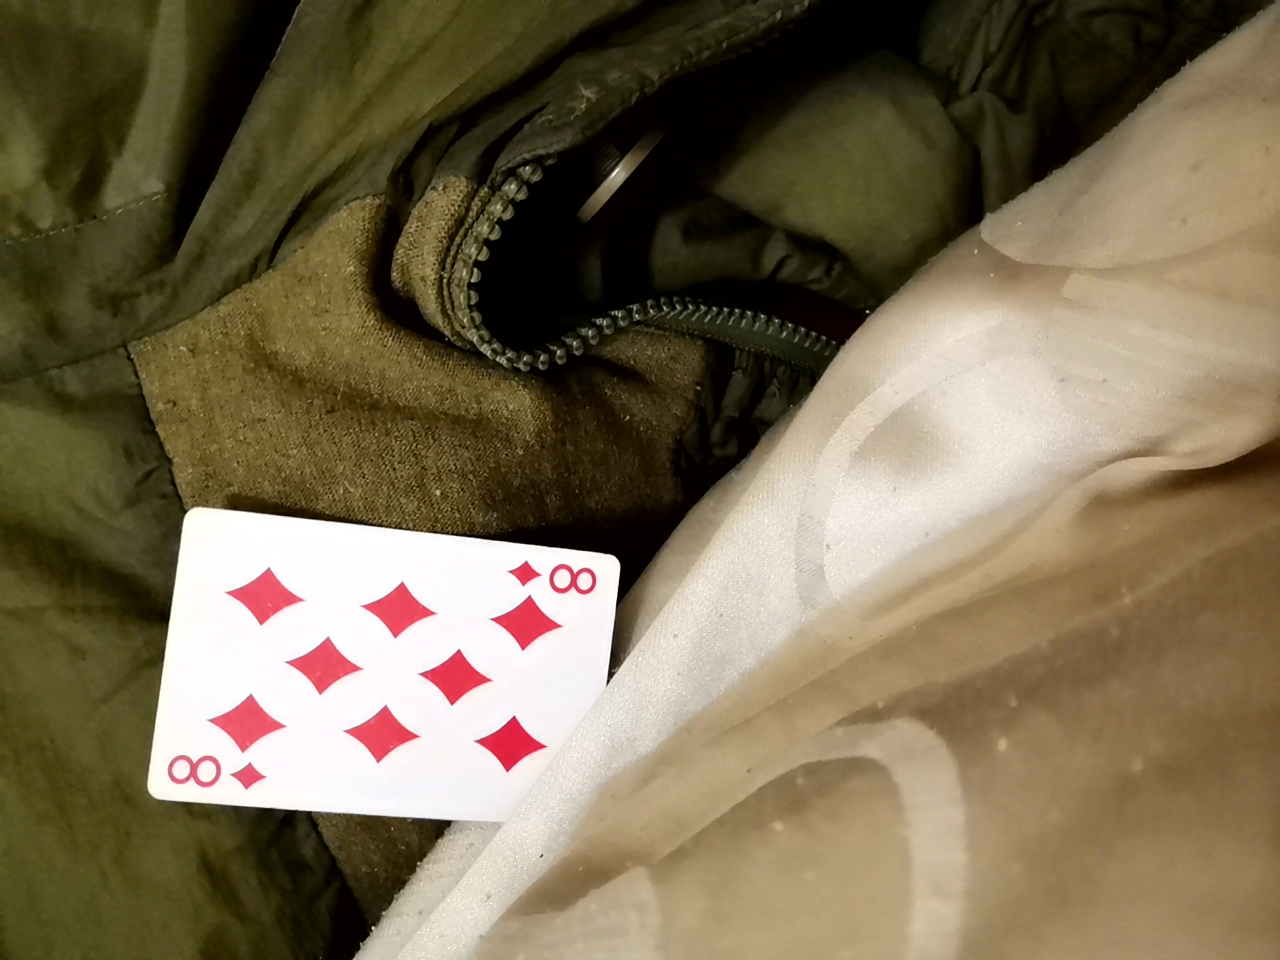fk 8: (116, 506, 619, 844)
